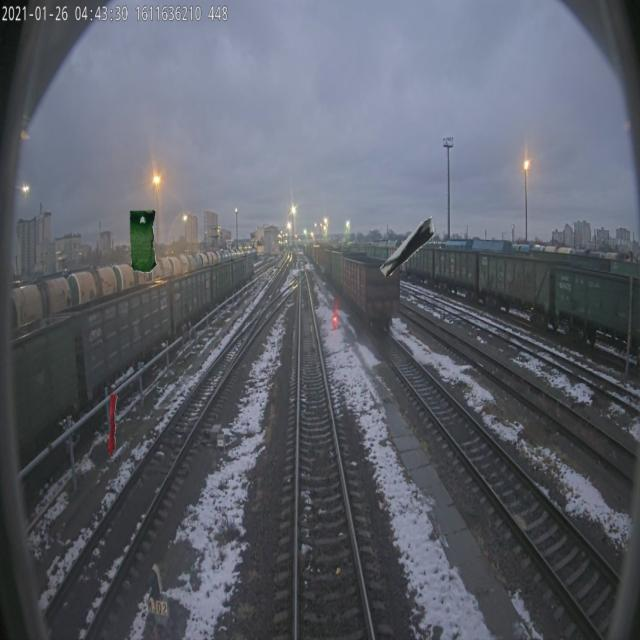floating object: (380, 214, 438, 278), (107, 393, 118, 457)
plastic bag: (130, 208, 157, 272)
